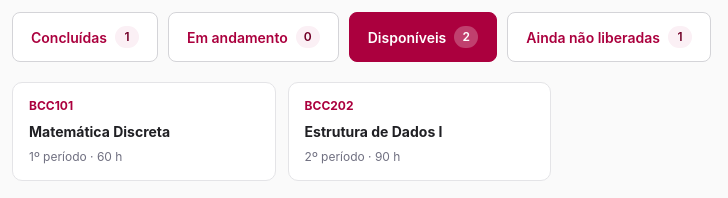
Scenario: mostra uma mensagem quando a categoria está vazia
Click the button "Em andamento 0".
click(253, 37)  # box [168,12,339,62]
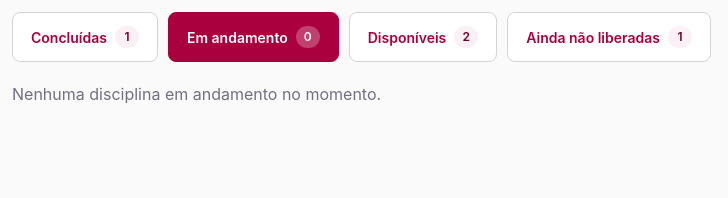
Now the message shows "Nenhuma disciplina em andamento", box [12,84,381,104]
Now the list is gone
